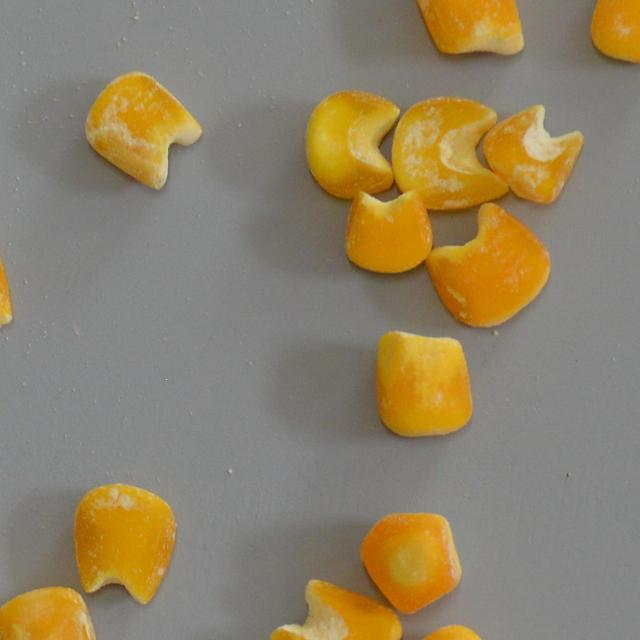no_canjicado: (375, 330, 473, 438)
pelicula: (426, 202, 550, 329), (82, 71, 203, 191), (390, 94, 509, 211), (72, 484, 175, 606), (357, 509, 462, 615), (482, 102, 586, 204), (304, 89, 399, 199), (269, 578, 402, 640), (346, 190, 432, 273), (411, 0, 523, 53), (0, 586, 101, 640), (588, 0, 640, 65), (390, 622, 496, 640), (0, 230, 13, 340)
